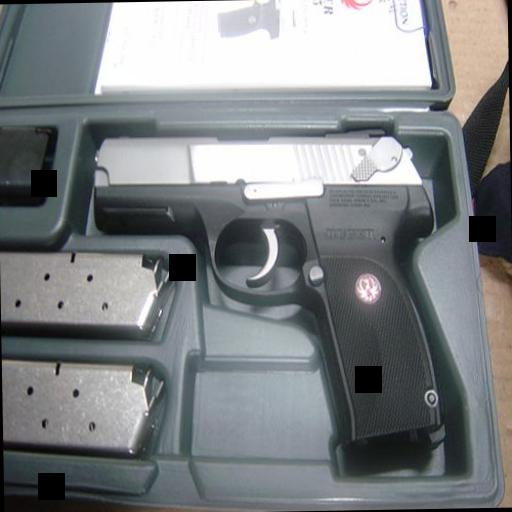Handgun: (92, 120, 448, 456)
